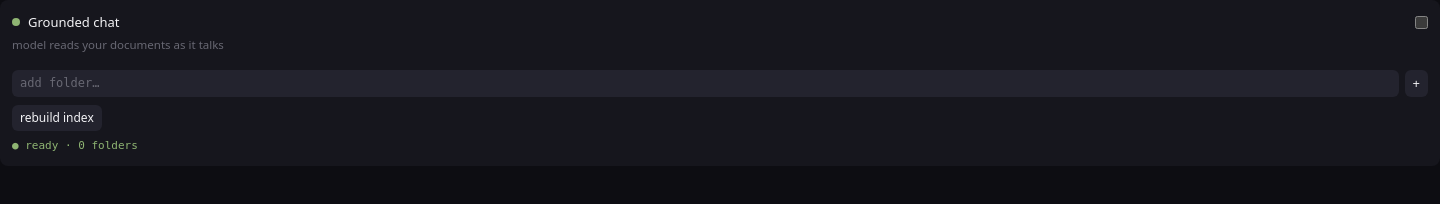
Test: the grounding card's rebuild control › says the server's 409 sentence out loud instead of swallowing it
The width and height of the screenshot is (1440, 204).
Click the button "rebuild index" at (57, 118), box x1=12 y1=104 x2=102 y2=131
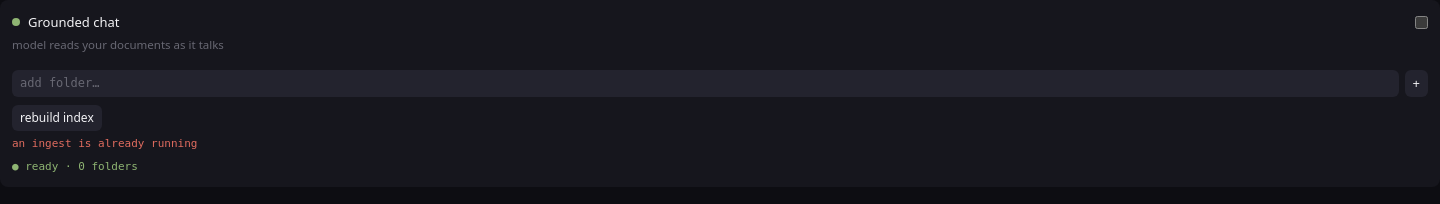
expect the message "an ingest is already running" is shown: met, box x1=12 y1=137 x2=197 y2=150
